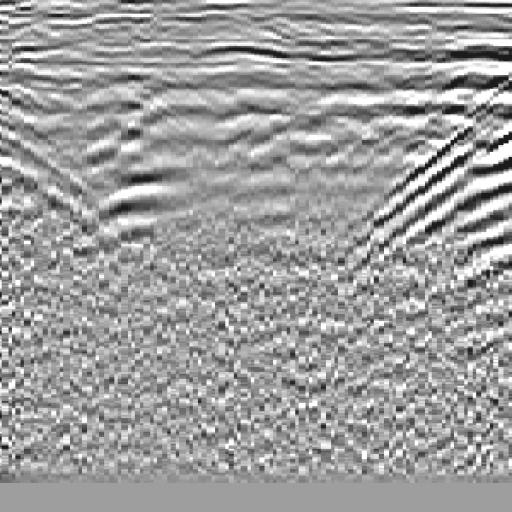metalic: (61, 130, 240, 293)
nonmetalic: (354, 71, 512, 308)
